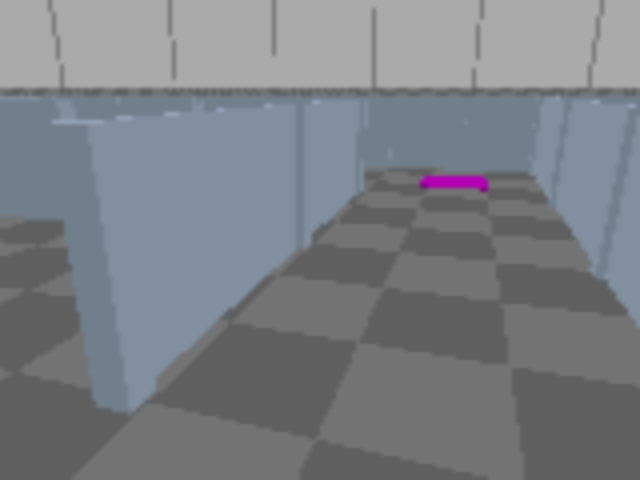goal_zone: (418, 174, 487, 190)
